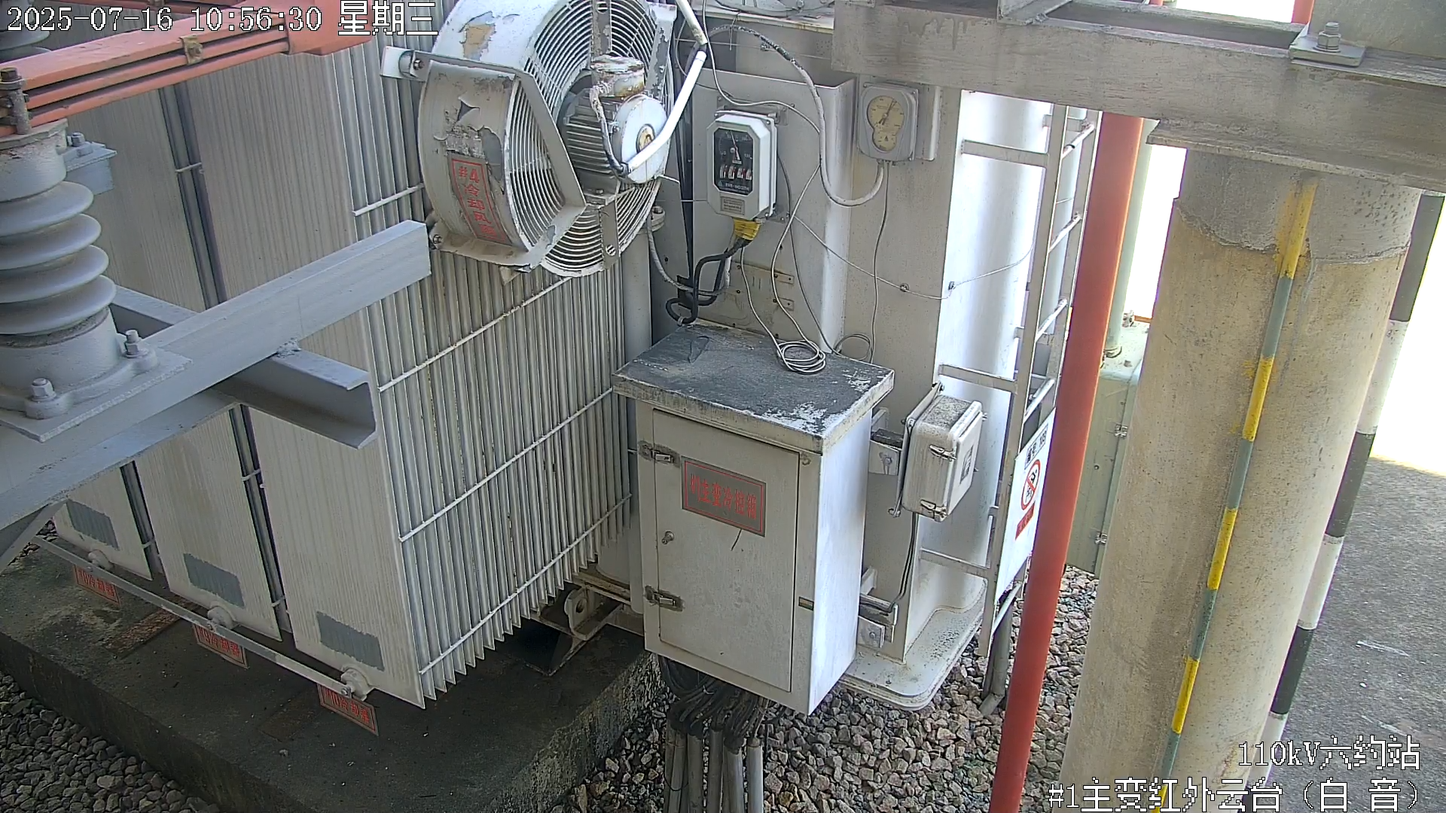MainTR: (31, 1, 1152, 738)
